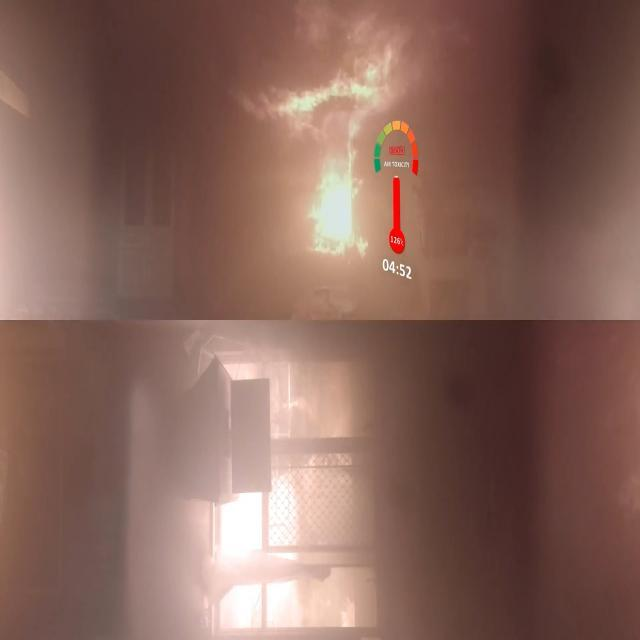Fire: (233, 6, 453, 282)
